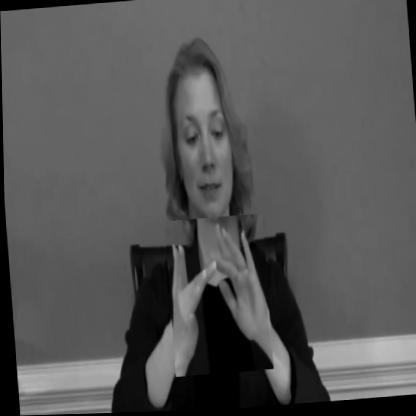Internet: (163, 214, 272, 378)
